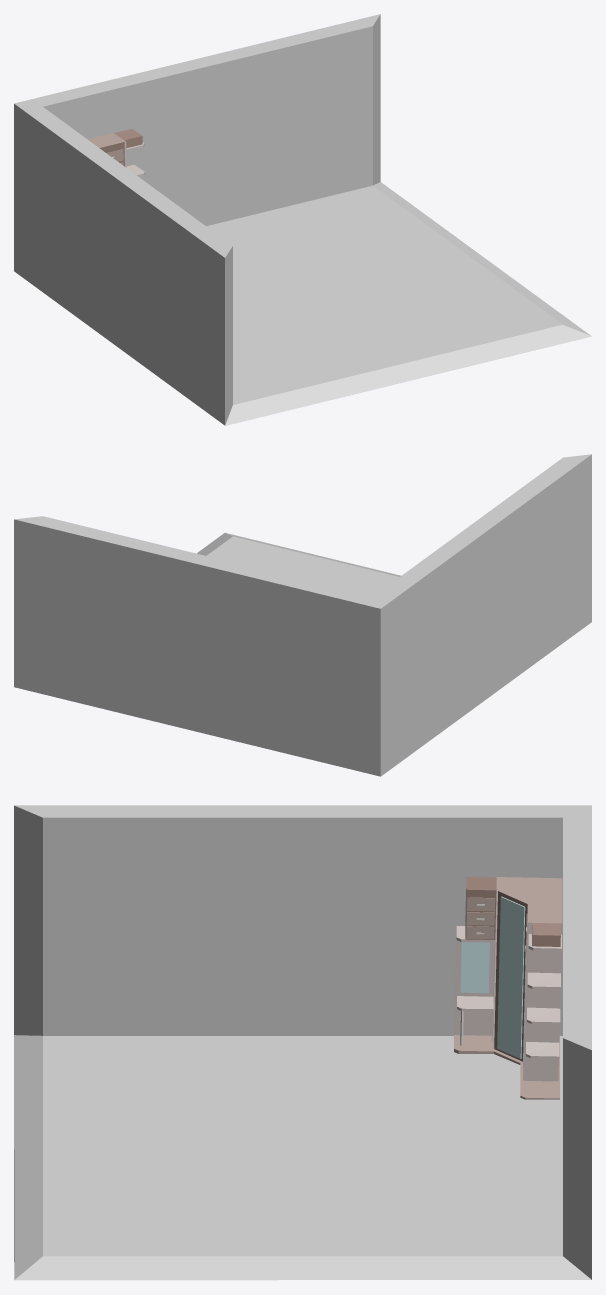
Rendered from salle_modele.glb.
The picture shows the model from 3 angles, top to bottom: view 1: azimuth 30°, elevation 25°; view 2: azimuth 150°, elevation 25°; view 3: azimuth 270°, elevation 25°; orthographic projection. The views are drawn at different scales.
Parts seen in each view (by area): view 1: Pièce, Armoire-étagère de coin; view 2: Pièce; view 3: Pièce, Armoire-étagère de coin.
Part boxes in pixels (x1,y1,x2,y2): Pièce: (14,14,591,425); Armoire-étagère de coin: (87,129,144,176); Pièce: (14,454,591,776); Pièce: (14,805,591,1280); Armoire-étagère de coin: (454,876,562,1099).
Size of the model in its own units: 8 by 3.5 by 7.97.
